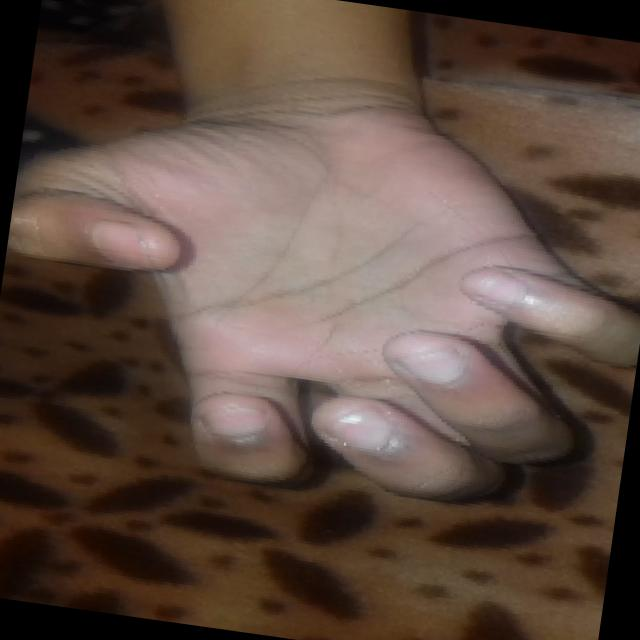Nail: (91, 219, 164, 268), (323, 405, 392, 451), (399, 346, 465, 384), (205, 403, 267, 436), (472, 272, 521, 306)
